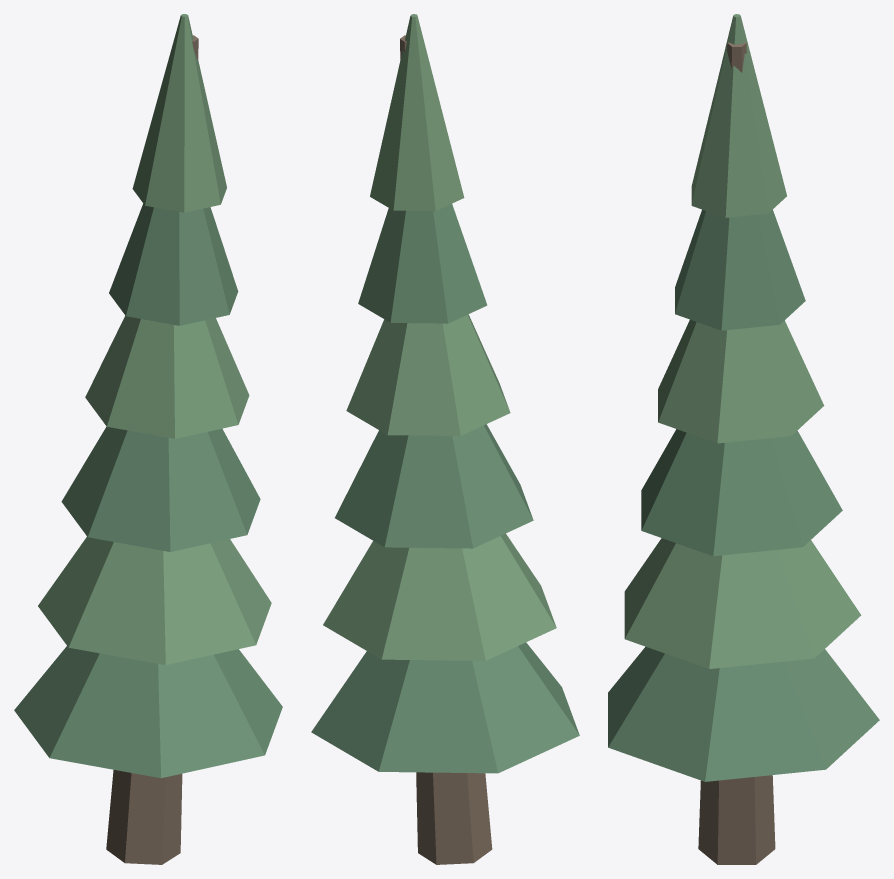
File: pine_v08.glb
The picture shows the model from 3 angles, left to right: view 1: azimuth 30°, elevation 25°; view 2: azimuth 150°, elevation 25°; view 3: azimuth 270°, elevation 25°; orthographic projection. The views are drawn at different scales.
Visible parts, largest first — view 1: lod0; view 2: lod0; view 3: lod0.
Boxes of the visible parts, left/top/right/bottom form: lod0: left=14, top=14, right=282, bottom=864; lod0: left=311, top=14, right=579, bottom=864; lod0: left=608, top=14, right=879, bottom=864.
Size of what is drawn, in the model's own units: 1.45 by 4.9 by 1.41.
